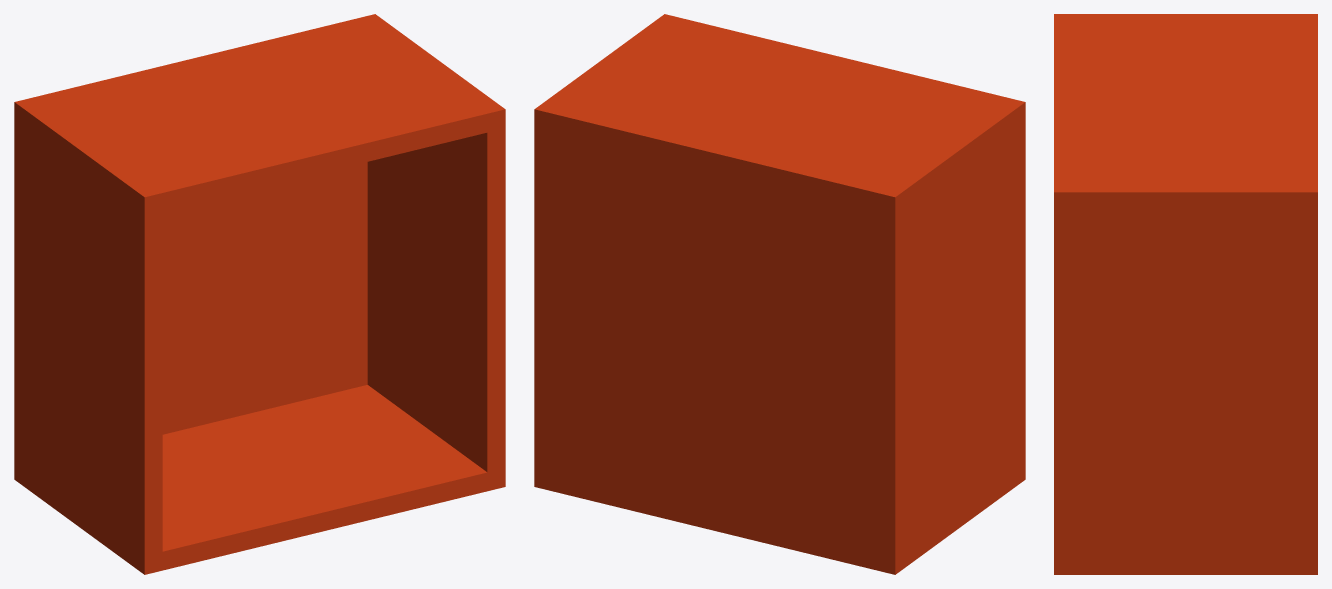
The model's file is pensileArancio.obj.
3 renders of one model, left to right at view 1: azimuth 30°, elevation 25°; view 2: azimuth 150°, elevation 25°; view 3: azimuth 270°, elevation 25°, orthographic.
Visible parts, largest first — view 1: Box20_1; view 2: Box20_1; view 3: Box20_1.
Boxes of the visible parts, x1,y1,x2,y2 form: Box20_1: (14,14,505,574); Box20_1: (534,14,1025,574); Box20_1: (1054,14,1317,574).
Bounding box in the file's own units: 40 × 40 × 25.
